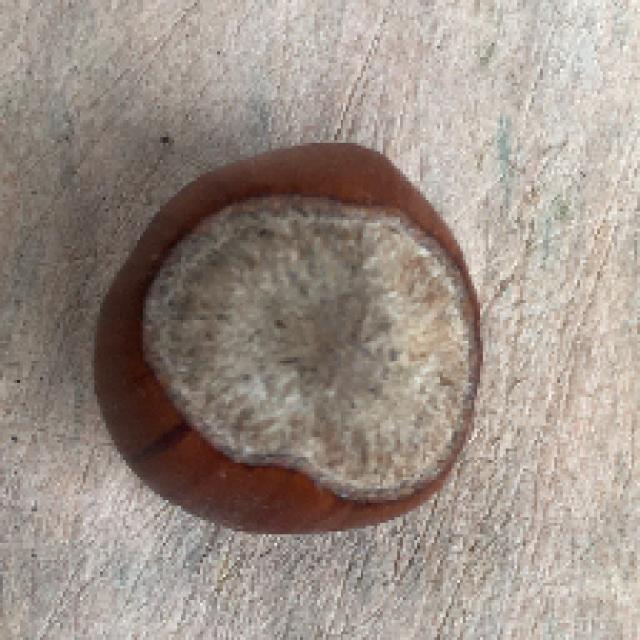qualityHazelnut: (85, 124, 488, 556)
